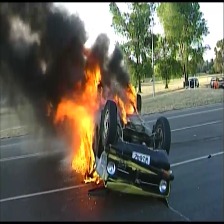fire_h: (52, 49, 108, 174), (123, 82, 139, 114), (113, 94, 127, 123)
fire_l: (84, 171, 100, 184), (45, 105, 52, 116)
